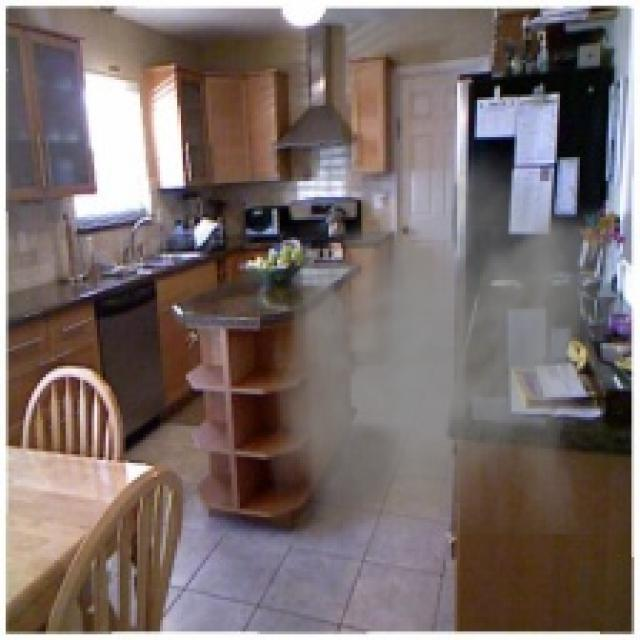Smoke: (268, 137, 614, 534)
